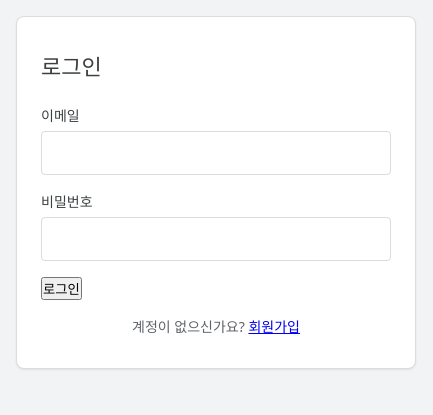
Test case: LoginPage › 401 오류 시 인라인 에러 메시지 표시
The width and height of the screenshot is (433, 415).
In the field labelled "이메일": (216, 153) [41,131,391,175], type "test@test.com"
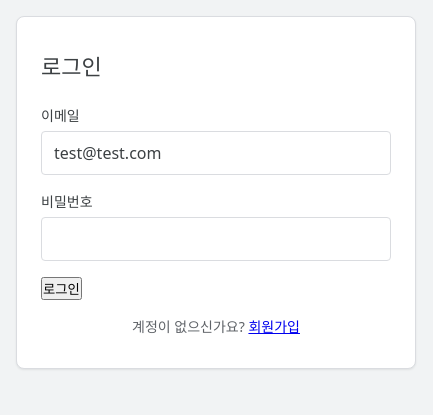
In the password field labelled "비밀번호": (216, 239) [41,217,391,261], type "wrongpass"
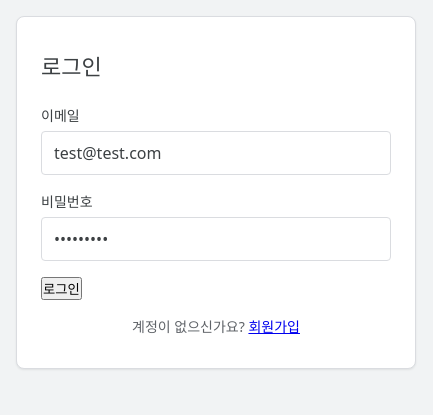
Click the button "로그인": (61, 288) [41,277,82,300]
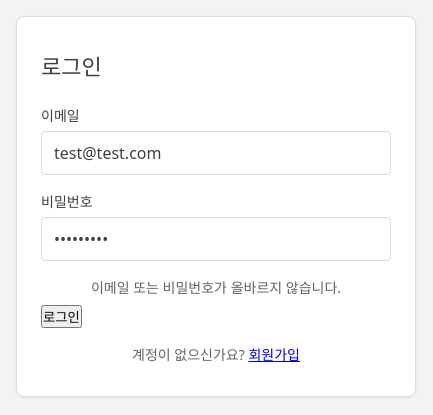
Result: the text "이메일 또는 비밀번호가 올바르지 않습니다." is shown at [91,278,341,297]
